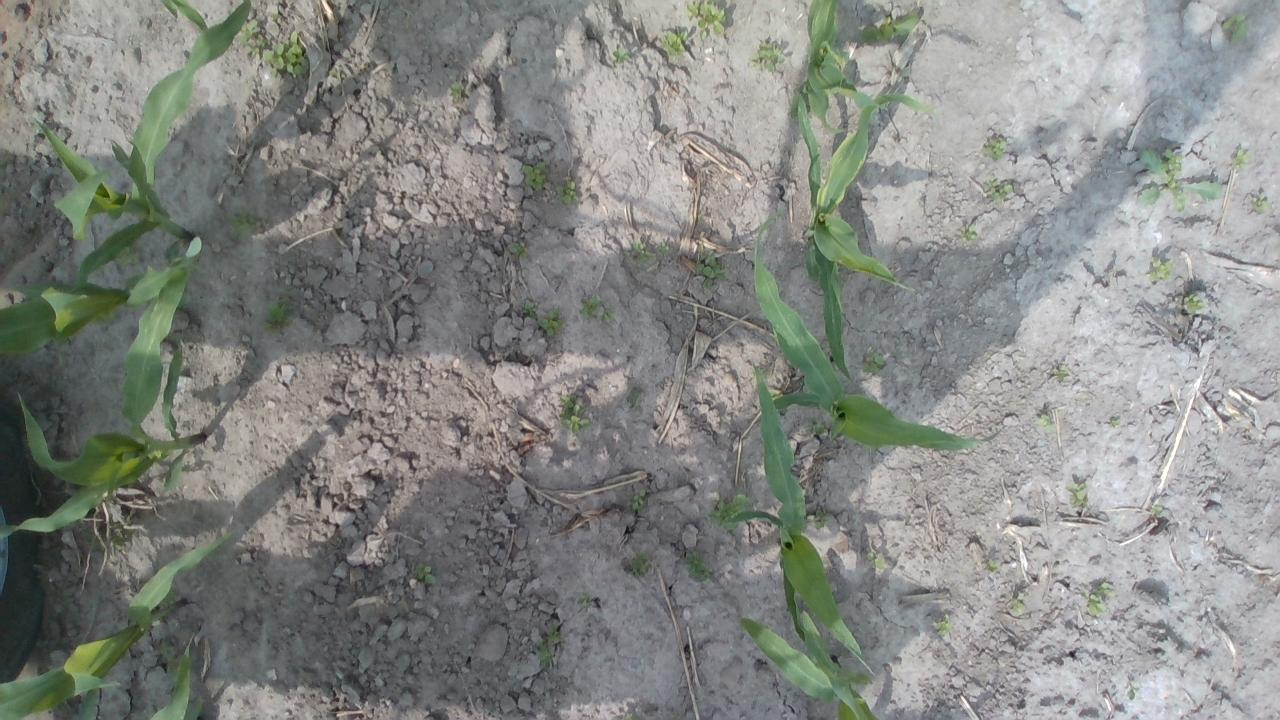Maize: (34, 0, 254, 335), (0, 240, 207, 535), (750, 211, 1000, 450), (718, 365, 878, 678), (0, 530, 227, 720), (790, 87, 920, 381), (0, 258, 190, 362), (782, 0, 902, 140), (734, 608, 880, 720), (134, 642, 202, 720), (148, 0, 206, 31)
Weeds: (1136, 148, 1224, 216), (261, 30, 310, 77), (859, 10, 919, 42), (686, 0, 726, 41), (708, 494, 748, 532), (558, 394, 590, 435), (236, 19, 266, 60), (696, 250, 726, 288), (1082, 582, 1115, 615), (750, 42, 784, 72), (262, 300, 292, 332), (228, 212, 260, 240), (158, 640, 180, 680), (684, 550, 712, 581), (538, 308, 565, 338), (522, 160, 549, 190), (859, 346, 886, 376), (660, 30, 690, 56), (1224, 12, 1248, 44), (984, 178, 1012, 202), (623, 241, 652, 264), (1066, 482, 1090, 508), (556, 178, 579, 205), (1149, 258, 1175, 281), (116, 246, 142, 269), (982, 138, 1008, 160), (577, 294, 602, 316), (536, 640, 557, 664), (1250, 192, 1272, 214), (1184, 292, 1204, 316), (933, 613, 953, 637), (414, 563, 436, 584), (1229, 148, 1252, 168), (630, 552, 648, 576), (806, 509, 826, 530), (96, 309, 120, 326), (958, 222, 978, 241), (806, 417, 826, 436), (866, 552, 886, 570), (1010, 592, 1026, 614), (110, 533, 130, 550), (508, 241, 528, 258), (522, 300, 538, 320), (1052, 365, 1070, 382), (630, 490, 646, 509), (448, 81, 462, 102), (613, 47, 630, 64), (547, 626, 563, 644), (626, 388, 640, 408), (600, 306, 616, 322), (1038, 413, 1054, 428), (576, 591, 592, 604), (657, 241, 670, 254), (986, 559, 999, 572), (179, 292, 191, 306), (1150, 506, 1162, 516), (1111, 418, 1120, 427), (328, 70, 338, 78), (270, 12, 280, 20), (1128, 690, 1136, 700)
